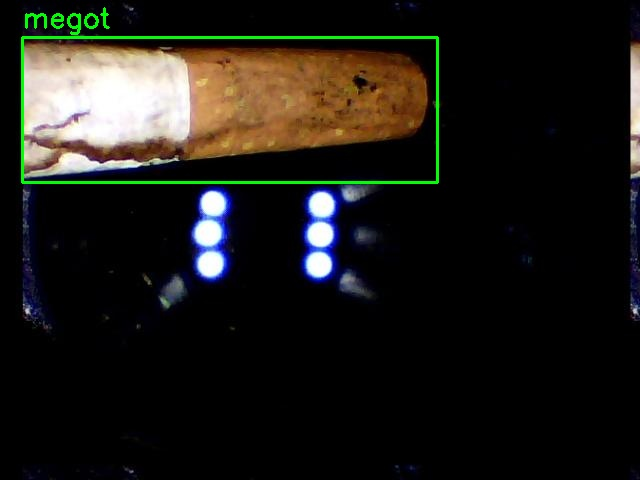megot: (22, 37, 437, 182)
